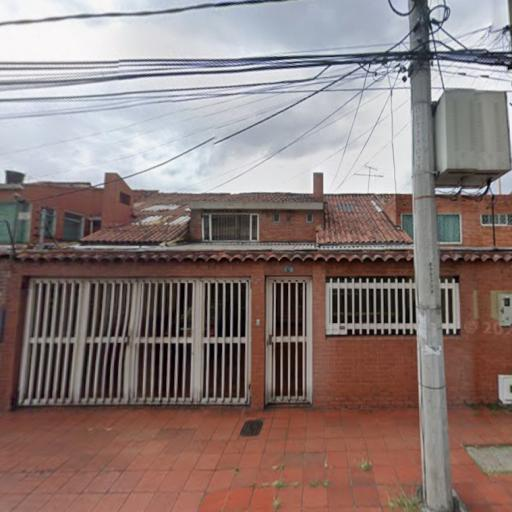poste: (399, 1, 458, 512)
